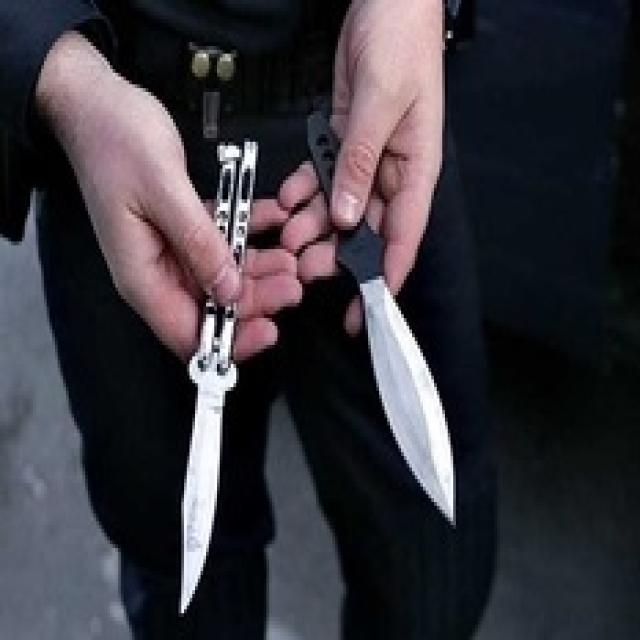knife: (304, 101, 463, 536), (175, 127, 266, 617)
